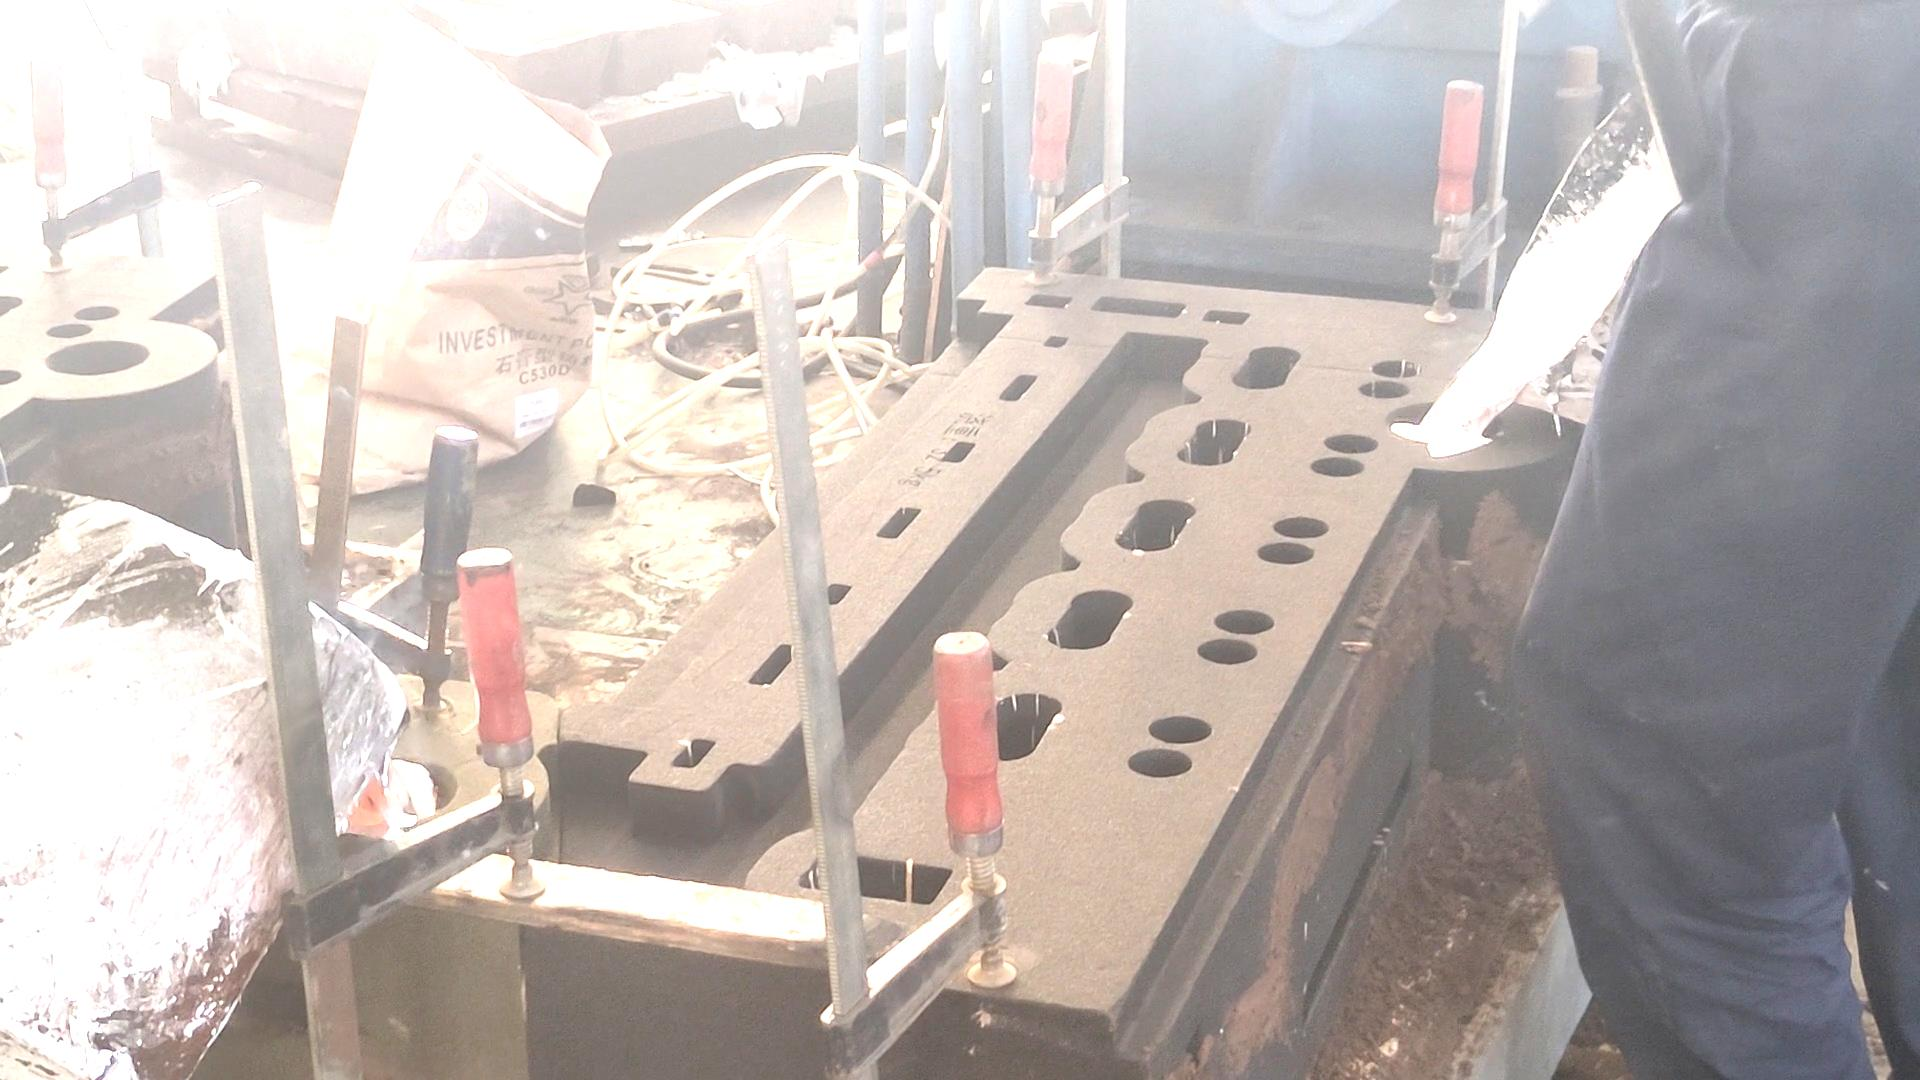pouring hole: (347, 756, 459, 818), (1386, 401, 1502, 444), (45, 340, 150, 375)
